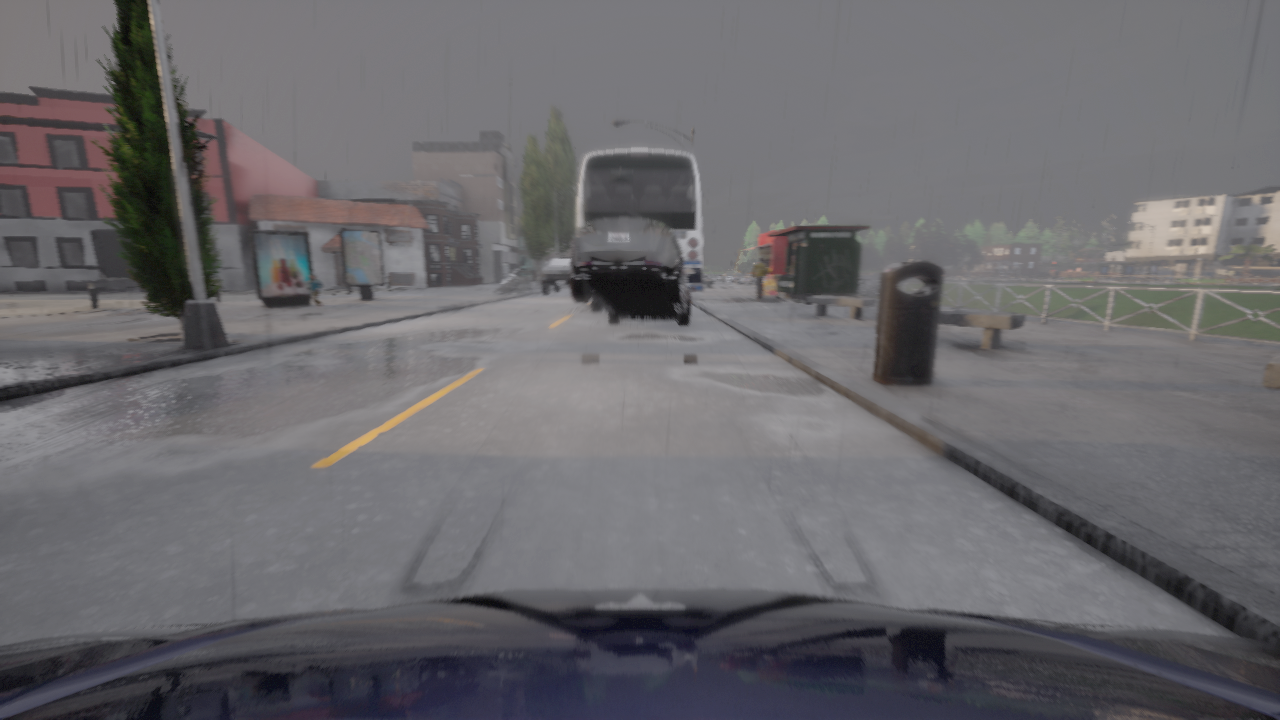cyclist: (0, 588, 1279, 719), (576, 149, 702, 312), (570, 219, 692, 324), (540, 257, 569, 295)
pedestrian: (751, 257, 767, 299), (307, 274, 322, 308)
